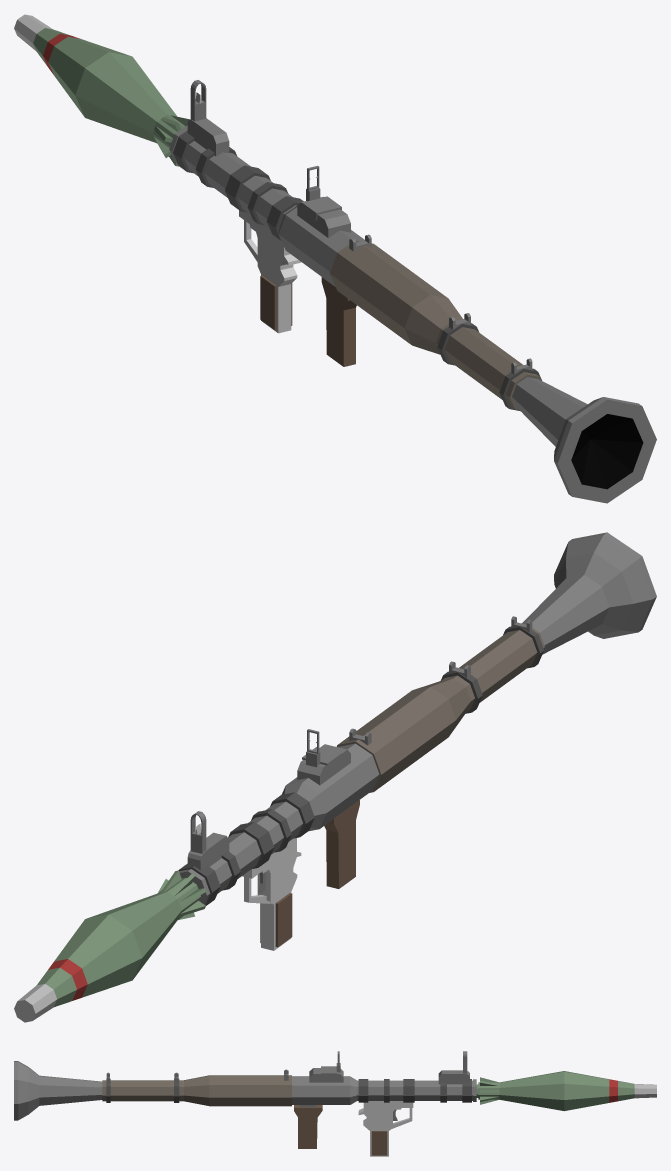
File: rpg.glb
The picture shows the model from 3 angles, top to bottom: view 1: azimuth 30°, elevation 25°; view 2: azimuth 150°, elevation 25°; view 3: azimuth 270°, elevation 25°; orthographic projection. The views are drawn at different scales.
Visible parts, largest first — view 1: Cylinder, Cylinder.001; view 2: Cylinder, Cylinder.001; view 3: Cylinder, Cylinder.001.
Boxes of the visible parts, x1,y1,x2,y2 form: Cylinder: [169, 80, 656, 503]; Cylinder.001: [14, 14, 190, 166]; Cylinder: [178, 532, 656, 950]; Cylinder.001: [14, 870, 205, 1022]; Cylinder: [14, 1051, 476, 1156]; Cylinder.001: [476, 1071, 656, 1111].
Size of the model in its own units: 96.18 by 173 by 977.
